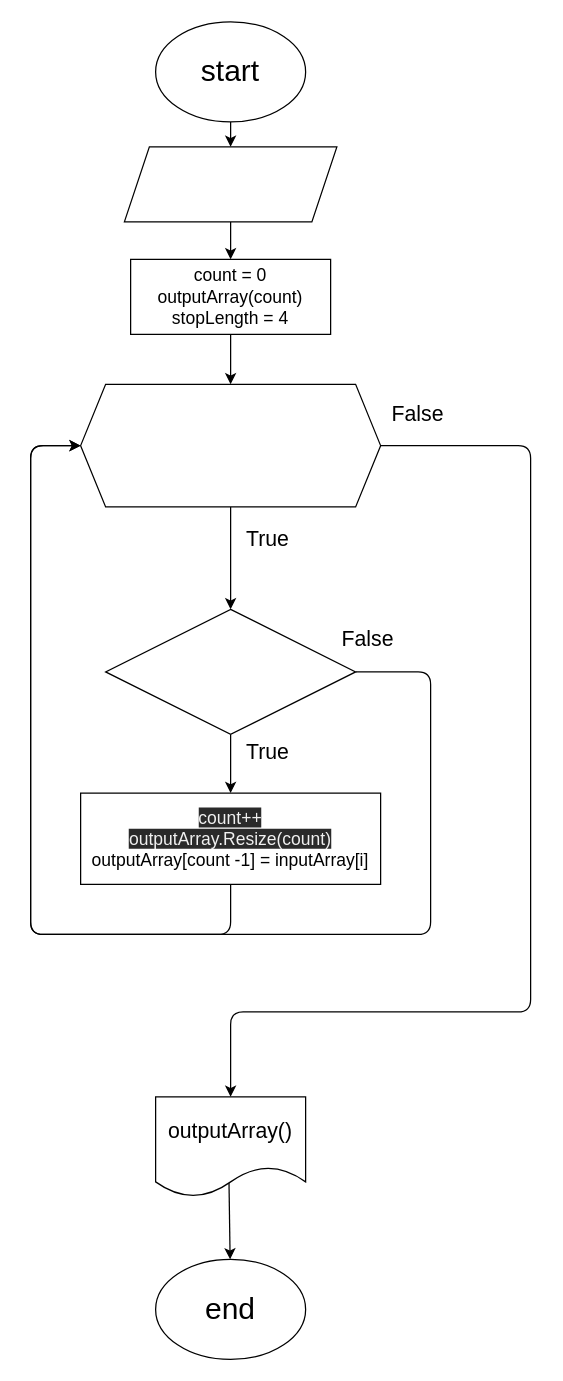
This 563x1381 diagram has some shape labels left out. The centre of each missing label's shape, as x and y in pixels:
i, 0, inputArray .Length-1: (230,445)
inputArray(): (230,184)
inputArray[i].Length < stopLength: (230,671)
